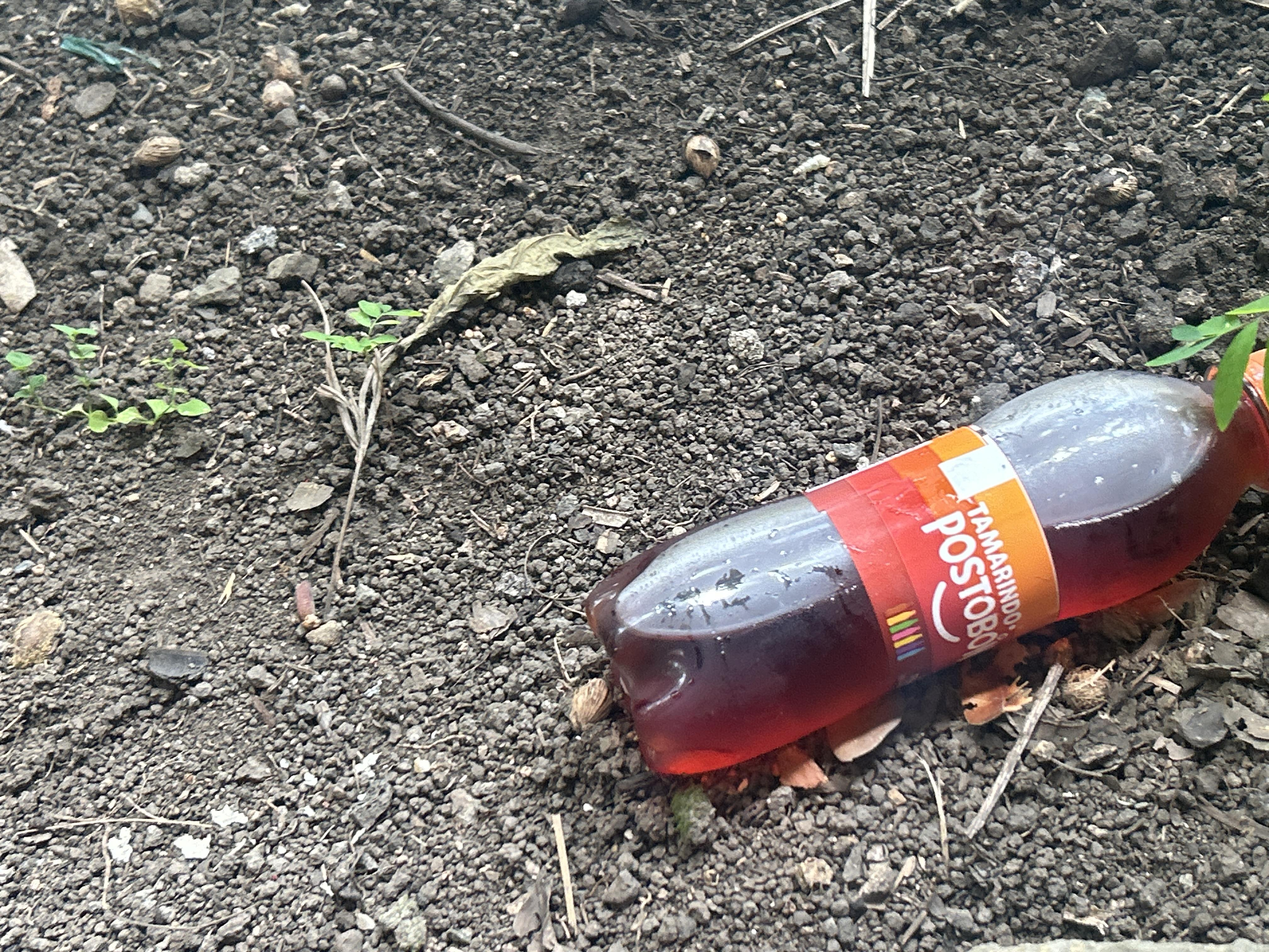tamarindo: (585, 370, 1269, 774)
